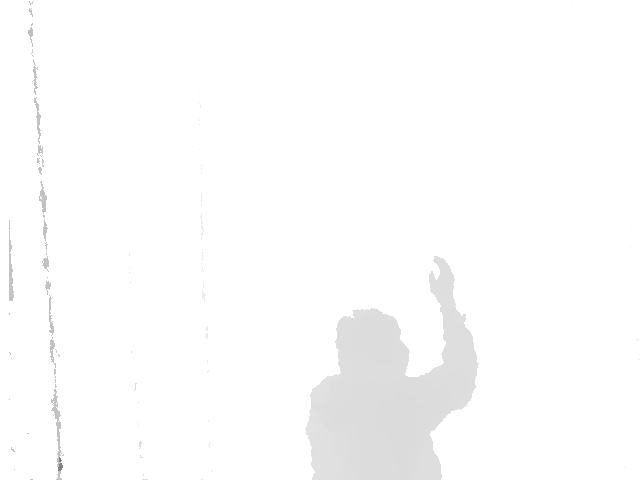hand: (426, 251, 456, 306)
head: (333, 307, 412, 388)
person: (305, 250, 480, 480)
